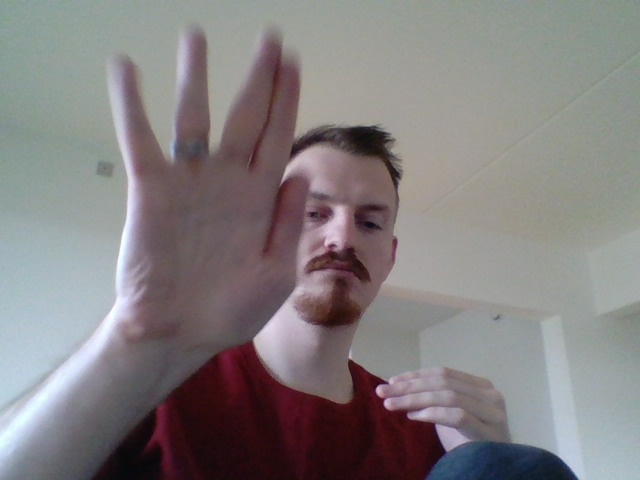LiveLong: (107, 20, 312, 346)
